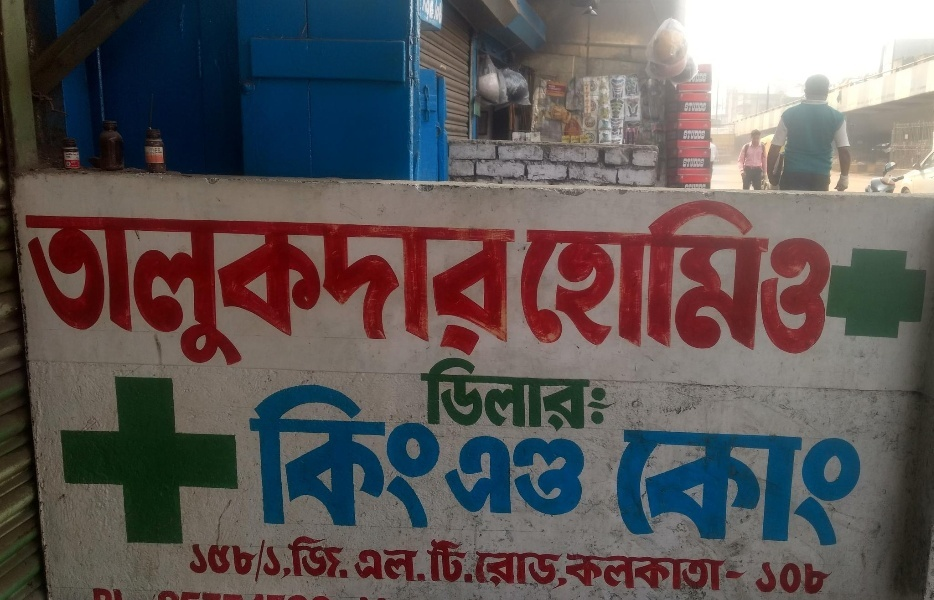text: (529, 191, 544, 355), (545, 191, 560, 355), (561, 191, 576, 355), (577, 191, 592, 355), (593, 191, 608, 355), (609, 191, 624, 355), (625, 191, 640, 355), (641, 191, 656, 355), (657, 191, 672, 355), (673, 191, 688, 355), (689, 191, 704, 355), (705, 191, 720, 355), (721, 191, 736, 355), (737, 191, 752, 355), (753, 191, 768, 355), (769, 191, 784, 355), (785, 191, 800, 355), (801, 191, 816, 355), (817, 191, 832, 355), (33, 211, 48, 373), (49, 211, 64, 373), (65, 211, 80, 373), (81, 211, 96, 373), (97, 211, 112, 373), (113, 211, 128, 373), (129, 211, 144, 373), (145, 211, 160, 373), (161, 211, 176, 373), (177, 211, 192, 373), (193, 211, 208, 373), (209, 211, 224, 373), (225, 211, 240, 373), (241, 211, 256, 373), (257, 211, 272, 373), (273, 211, 288, 373), (289, 211, 304, 373), (305, 211, 320, 373), (321, 211, 336, 373), (337, 211, 352, 373), (353, 211, 368, 373), (369, 211, 384, 373), (385, 211, 400, 373), (401, 211, 416, 373), (417, 211, 432, 373), (433, 211, 448, 373), (449, 211, 464, 373), (465, 211, 480, 373), (481, 211, 496, 373), (497, 211, 512, 373), (241, 375, 256, 530), (257, 375, 272, 530), (273, 375, 288, 530), (289, 375, 304, 530), (305, 375, 320, 530), (321, 375, 336, 530), (337, 375, 352, 530), (353, 375, 368, 530), (369, 375, 384, 530), (385, 375, 400, 530), (401, 375, 416, 530), (417, 375, 432, 530), (625, 428, 640, 549), (641, 428, 656, 549), (657, 428, 672, 549), (673, 428, 688, 549), (689, 428, 704, 549), (705, 428, 720, 549), (721, 428, 736, 549), (737, 428, 752, 549), (753, 428, 768, 549), (769, 428, 784, 549), (785, 428, 800, 549), (801, 428, 816, 549), (817, 428, 832, 549), (833, 428, 848, 549), (849, 428, 862, 549), (433, 375, 443, 530), (519, 191, 528, 355), (449, 434, 464, 517), (465, 434, 480, 517), (481, 434, 496, 517), (497, 434, 512, 517), (513, 434, 528, 517), (529, 434, 544, 517), (545, 434, 560, 517), (561, 434, 576, 517), (417, 354, 432, 434), (433, 354, 448, 434), (449, 354, 464, 434), (465, 354, 480, 434), (481, 354, 496, 434), (497, 354, 512, 434), (513, 354, 528, 434), (529, 354, 544, 434), (545, 354, 560, 434), (561, 354, 576, 434), (577, 354, 592, 434), (25, 211, 32, 373), (615, 428, 624, 549), (577, 434, 588, 517), (513, 211, 518, 373), (337, 534, 353, 583), (289, 534, 304, 583), (305, 534, 320, 583), (321, 534, 336, 583), (433, 537, 448, 585), (449, 537, 464, 585), (193, 535, 208, 583), (209, 535, 224, 583), (225, 535, 240, 583), (241, 535, 256, 583), (257, 535, 272, 583), (273, 535, 288, 583), (353, 542, 368, 586), (369, 542, 384, 586), (385, 542, 400, 586), (401, 542, 416, 586), (577, 550, 592, 594), (593, 550, 608, 594), (609, 550, 624, 594), (625, 550, 640, 594), (641, 550, 656, 594), (657, 550, 672, 594), (673, 550, 688, 594), (689, 550, 704, 594), (705, 550, 720, 594), (721, 550, 736, 594), (737, 550, 752, 594), (833, 191, 837, 355), (481, 548, 496, 590), (497, 548, 512, 590), (513, 548, 528, 590), (529, 548, 544, 590), (545, 548, 560, 590), (465, 537, 477, 585), (593, 388, 608, 426), (564, 550, 576, 594), (769, 561, 784, 595), (785, 561, 800, 595), (801, 561, 816, 595), (817, 561, 832, 595), (417, 542, 428, 586), (423, 537, 432, 585), (609, 388, 619, 426), (561, 548, 570, 590), (757, 561, 768, 595), (238, 375, 240, 530), (474, 548, 480, 590), (289, 535, 294, 583), (97, 586, 112, 600), (113, 586, 128, 600), (129, 586, 144, 600), (145, 586, 160, 600), (161, 586, 176, 600), (177, 586, 192, 600), (193, 586, 208, 600), (209, 586, 224, 600), (225, 586, 240, 600), (241, 586, 256, 600), (257, 586, 272, 600), (273, 586, 288, 600), (289, 586, 304, 600), (305, 586, 320, 600), (321, 586, 336, 600), (337, 586, 352, 600), (353, 586, 368, 600), (369, 586, 384, 600), (385, 586, 400, 600), (401, 586, 416, 600), (417, 586, 432, 600), (433, 586, 448, 600), (449, 586, 464, 600), (689, 101, 704, 113), (689, 130, 704, 140), (189, 535, 192, 583), (689, 159, 704, 168), (694, 73, 704, 84), (350, 542, 352, 586), (447, 434, 448, 517), (593, 354, 594, 434), (689, 183, 704, 188), (287, 534, 288, 583), (753, 550, 754, 594), (684, 130, 688, 140), (591, 388, 592, 426), (685, 101, 688, 113), (684, 159, 688, 168), (833, 561, 834, 595), (705, 73, 708, 84), (94, 586, 96, 600), (465, 586, 467, 600), (705, 101, 707, 113), (684, 183, 688, 188), (705, 183, 709, 188), (705, 130, 706, 140), (705, 159, 706, 168)
